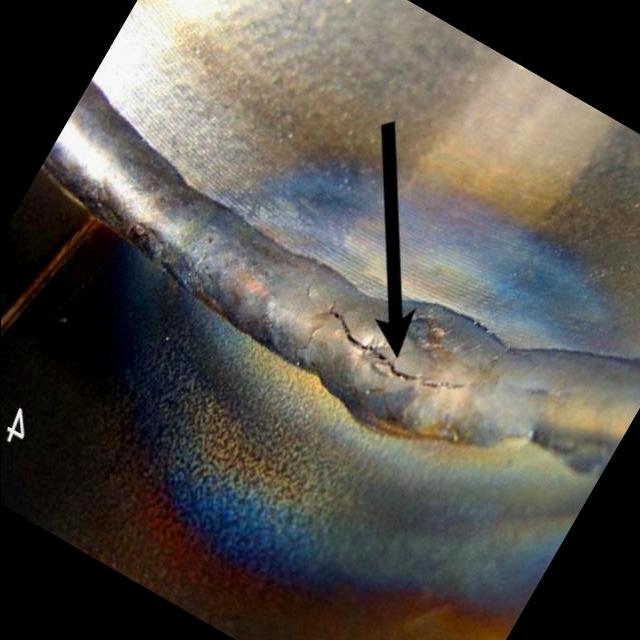defect: (321, 291, 467, 394)
